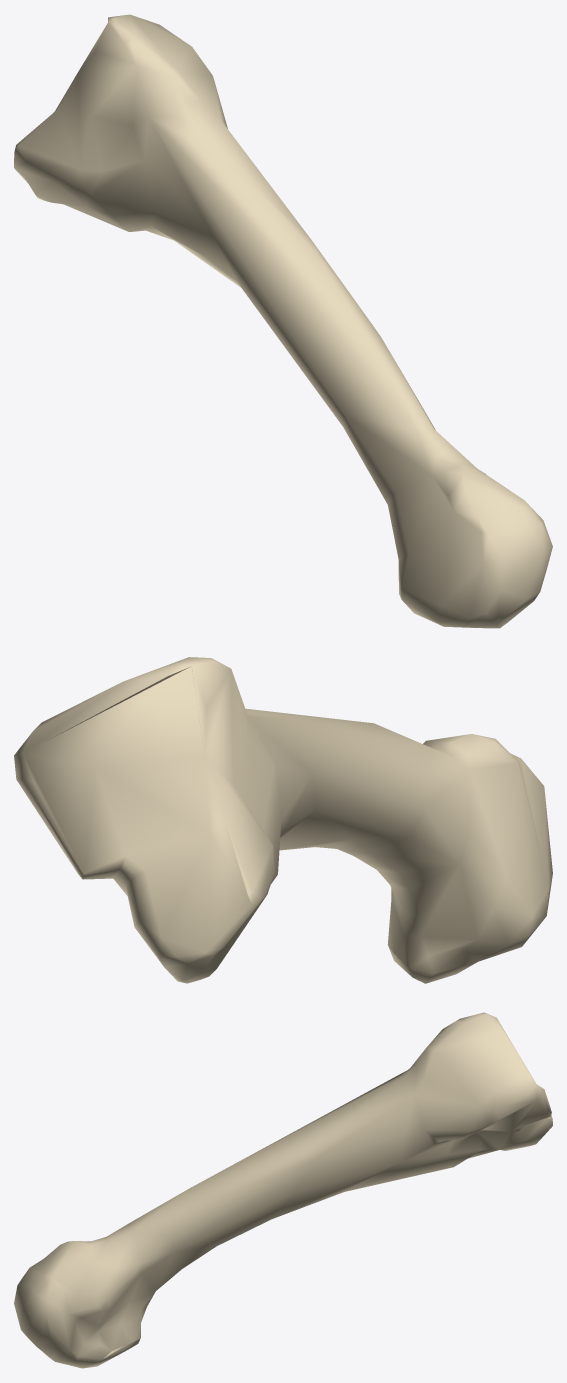
File: esqueleto-third-metatarsal-bone-l.glb
3 renders of one model, top to bottom at view 1: azimuth 30°, elevation 25°; view 2: azimuth 150°, elevation 25°; view 3: azimuth 270°, elevation 25°, orthographic. The views are drawn at different scales.
Parts seen in each view (by area): view 1: Third metatarsal bone.l; view 2: Third metatarsal bone.l; view 3: Third metatarsal bone.l.
Boxes of the visible parts, left/top/right/bottom form: Third metatarsal bone.l: left=14, top=14, right=552, bottom=628; Third metatarsal bone.l: left=14, top=657, right=552, bottom=983; Third metatarsal bone.l: left=14, top=1012, right=552, bottom=1368.
Size of the model in its own units: 0.0231 by 0.0444 by 0.0678.
